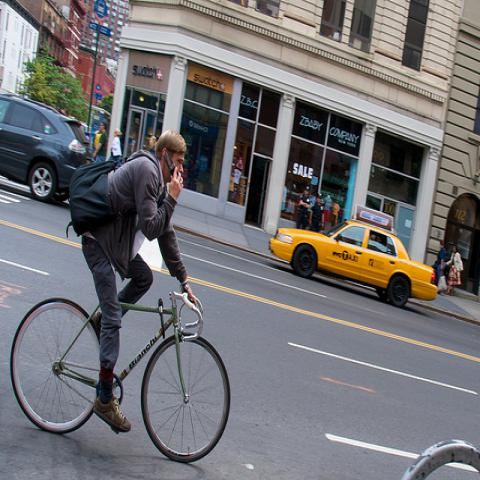car: (269, 206, 437, 303), (0, 93, 96, 205)
